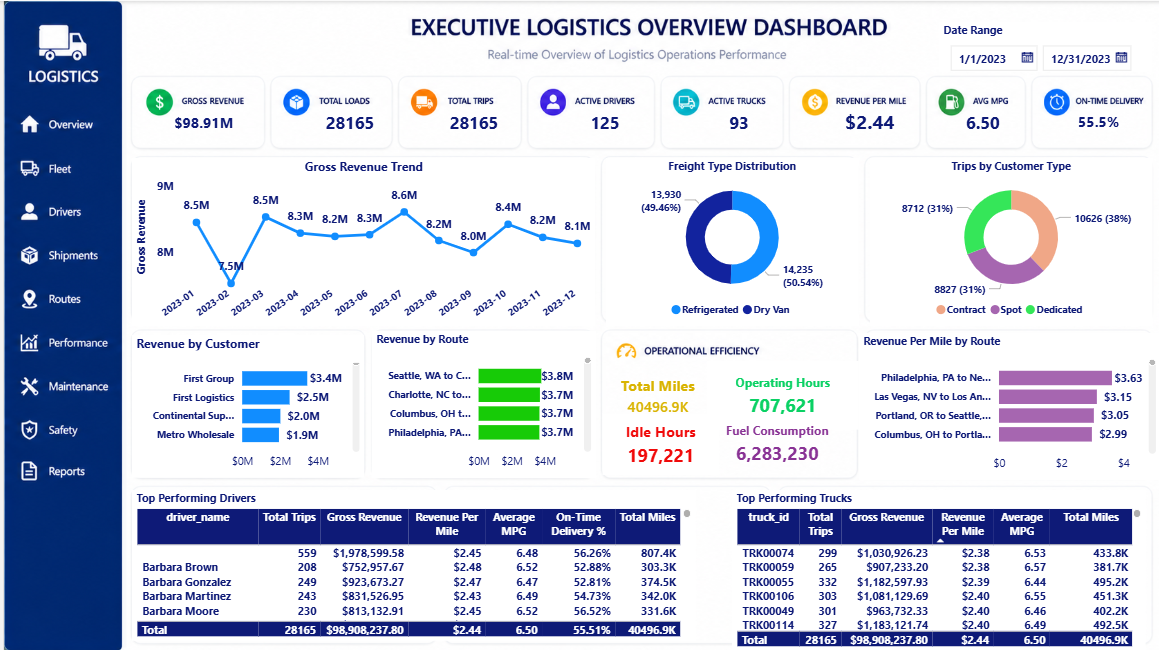

This screenshot's page, from the dashboard's own definition file:
{"tool":"powerbi","page":{"name":"Page 1","canvas":[1280,720],"ordinal":0},"visuals":[{"type":"cardVisual","fields":{"Data":["logistics_operations_db executive_logistics_overview_view.Gross Revenue"]},"box":[153.1,105.2,137.1,54.2],"z":0},{"type":"cardVisual","fields":{"Data":["logistics_operations_db executive_logistics_overview_view.Total Loads"]},"box":[325.3,105.2,115.9,54.2],"z":1000},{"type":"cardVisual","fields":{"Data":["logistics_operations_db executive_logistics_overview_view.Total Trips"]},"box":[462.5,105.2,115.9,54.2],"z":2000},{"type":"cardVisual","fields":{"Data":["logistics_operations_db executive_logistics_overview_view.Active Drivers"]},"box":[608.1,105.2,115.9,54.2],"z":3000},{"type":"cardVisual","fields":{"Data":["logistics_operations_db executive_logistics_overview_view.Active Trucks"]},"box":[755.9,105.2,115.9,54.2],"z":4000},{"type":"cardVisual","fields":{"Data":["logistics_operations_db executive_logistics_overview_view.Revenue Per Mile"]},"box":[889.8,105.2,137.1,54.2],"z":5000},{"type":"cardVisual","fields":{"Data":["logistics_operations_db executive_logistics_overview_view.Average MPG"]},"box":[1027,105.2,115.9,54.2],"z":6000},{"type":"cardVisual","fields":{"Data":["logistics_operations_db executive_logistics_overview_view.On-Time Delivery %"]},"box":[1152.4,90.4,119.1,84],"z":7000},{"type":"slicer","title":"Date Range","fields":{"Values":["logistics_operations_db executive_logistics_overview_view.load_date"]},"box":[1035.5,23.4,236,55.3],"z":7001},{"type":"lineChart","title":"Gross Revenue Trend","fields":{"Category":["logistics_operations_db executive_logistics_overview_view.load_month"],"Y":["logistics_operations_db executive_logistics_overview_view.Gross Revenue"]},"box":[141.4,174.4,513.5,186],"z":7002},{"type":"donutChart","title":"Freight Type Distribution","fields":{"Y":["logistics_operations_db executive_logistics_overview_view.Total Loads"],"Category":["logistics_operations_db executive_logistics_overview_view.load_type"]},"box":[666.6,174.4,279.6,186],"z":7003},{"type":"donutChart","title":"Trips by Customer Type","fields":{"Y":["logistics_operations_db executive_logistics_overview_view.Total Trips"],"Category":["logistics_operations_db executive_logistics_overview_view.customer_type"]},"box":[958.9,174.4,312.6,186],"z":7004},{"type":"clusteredBarChart","title":"Revenue by Customer ","fields":{"Y":["logistics_operations_db executive_logistics_overview_view.Gross Revenue"],"Category":["logistics_operations_db executive_logistics_overview_view.customer_name"]},"box":[141.4,370,257.3,158.4],"z":7005},{"type":"clusteredBarChart","title":"Revenue by Route ","fields":{"Y":["logistics_operations_db executive_logistics_overview_view.Gross Revenue"],"Category":["logistics_operations_db executive_logistics_overview_view.route_name"]},"box":[407.2,365.7,247.7,162.7],"z":7006},{"type":"clusteredBarChart","title":"Revenue Per Mile by Route","fields":{"Category":["logistics_operations_db executive_logistics_overview_view.route_name"],"Y":["logistics_operations_db executive_logistics_overview_view.Revenue Per Mile"]},"box":[946.2,367.8,333.8,162.7],"z":7007}]}

Visuals, with their boxes on the page's 1280x720 design canvas (x1, y1, x2, y2). These are canvas units, not pixel positions in the 1159x650 screenshot, which may show the page scaled, cropped or inside an application window:
cardVisual - logistics_operations_db executive_logistics_overview_view.Gross Revenue: locate(153, 105, 290, 159)
cardVisual - logistics_operations_db executive_logistics_overview_view.Total Loads: locate(325, 105, 441, 159)
cardVisual - logistics_operations_db executive_logistics_overview_view.Total Trips: locate(462, 105, 578, 159)
cardVisual - logistics_operations_db executive_logistics_overview_view.Active Drivers: locate(608, 105, 724, 159)
cardVisual - logistics_operations_db executive_logistics_overview_view.Active Trucks: locate(756, 105, 872, 159)
cardVisual - logistics_operations_db executive_logistics_overview_view.Revenue Per Mile: locate(890, 105, 1027, 159)
cardVisual - logistics_operations_db executive_logistics_overview_view.Average MPG: locate(1027, 105, 1143, 159)
cardVisual - logistics_operations_db executive_logistics_overview_view.On-Time Delivery %: locate(1152, 90, 1272, 174)
"Date Range" slicer: locate(1036, 23, 1272, 79)
"Gross Revenue Trend" lineChart: locate(141, 174, 655, 360)
"Freight Type Distribution" donutChart: locate(667, 174, 946, 360)
"Trips by Customer Type" donutChart: locate(959, 174, 1272, 360)
"Revenue by Customer " clusteredBarChart: locate(141, 370, 399, 528)
"Revenue by Route " clusteredBarChart: locate(407, 366, 655, 528)
"Revenue Per Mile by Route" clusteredBarChart: locate(946, 368, 1280, 530)
